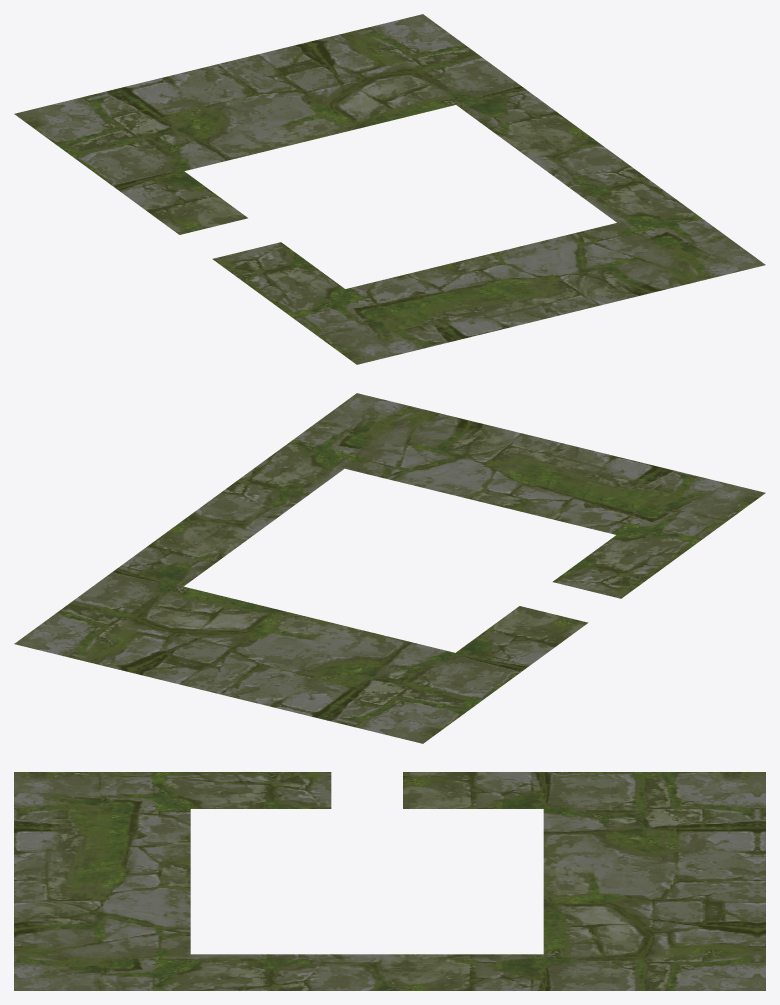
Rendered from yj_dixing_1.FBX.
The picture shows the model from 3 angles, top to bottom: view 1: azimuth 30°, elevation 25°; view 2: azimuth 150°, elevation 25°; view 3: azimuth 270°, elevation 25°; orthographic projection. The views are drawn at different scales.
Parts seen in each view (by area): view 1: yj_dixing_1; view 2: yj_dixing_1; view 3: yj_dixing_1.
Boxes of the visible parts, x1=… form: yj_dixing_1: x1=14, y1=14, x2=765, y2=364; yj_dixing_1: x1=14, y1=393, x2=765, y2=743; yj_dixing_1: x1=14, y1=772, x2=765, y2=990.
Bounding box in the file's own units: 10000 × 8.89e-13 × 14518.
